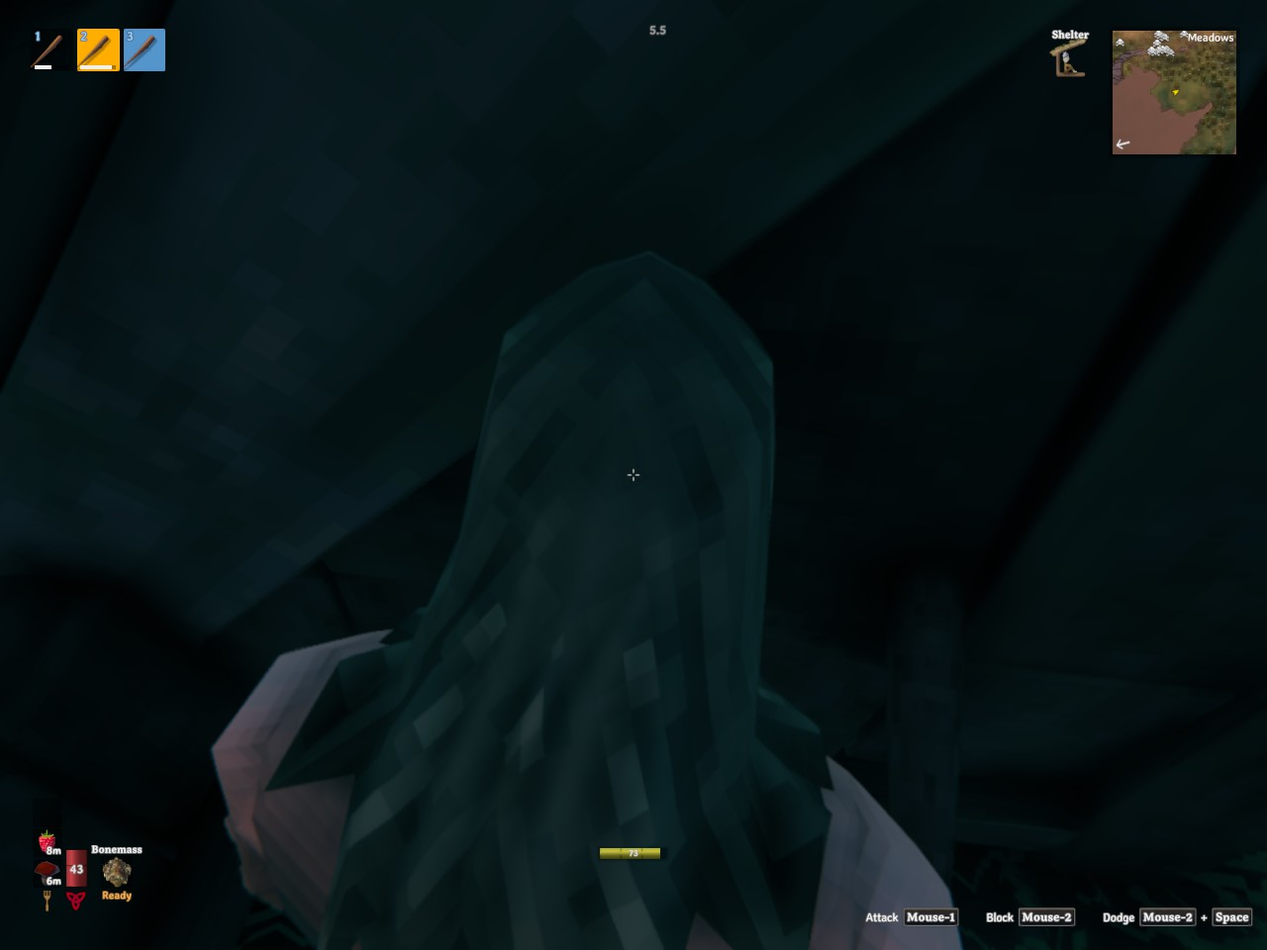Food Indicator: (36, 797, 63, 891)
Health Bar: (63, 820, 90, 891)
Hotbar: (24, 21, 195, 80)
Stamina Bar: (595, 842, 674, 862)
Status Indicator: (1031, 26, 1109, 100)
